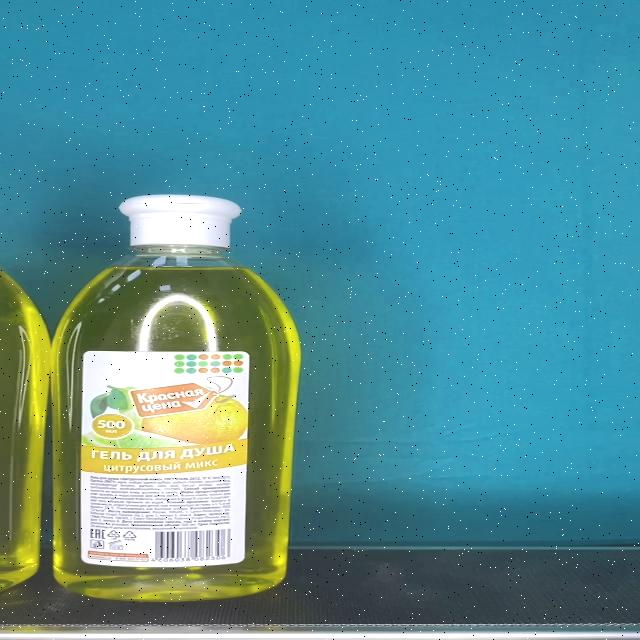Bottle: (48, 192, 303, 600)
Cap: (120, 195, 242, 247)
